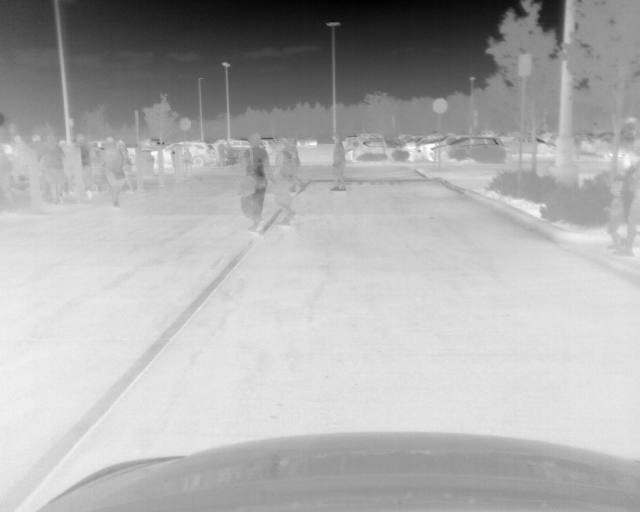car: (429, 137, 505, 162), (149, 140, 213, 167), (354, 141, 421, 161), (510, 136, 555, 154), (306, 137, 316, 144)
people: (240, 133, 267, 239), (271, 142, 296, 227), (43, 136, 69, 206), (73, 135, 99, 198), (103, 139, 122, 206), (286, 139, 306, 193), (28, 133, 46, 191), (332, 137, 347, 192), (1, 145, 12, 210), (14, 137, 26, 192), (120, 142, 132, 193), (184, 149, 192, 171), (226, 142, 233, 165), (219, 142, 225, 166)
